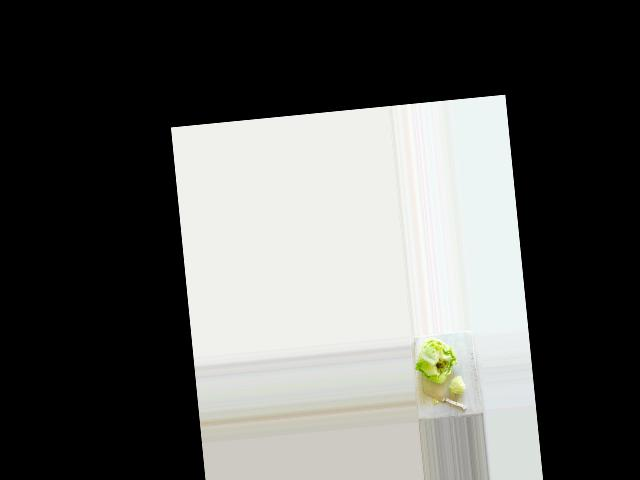lettuce: (414, 333, 458, 381)
